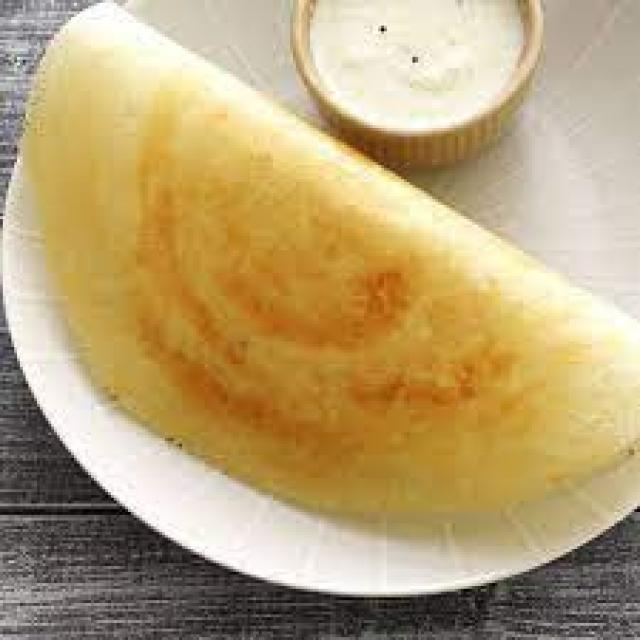Wet Waste: (29, 0, 637, 549), (298, 0, 558, 148)
